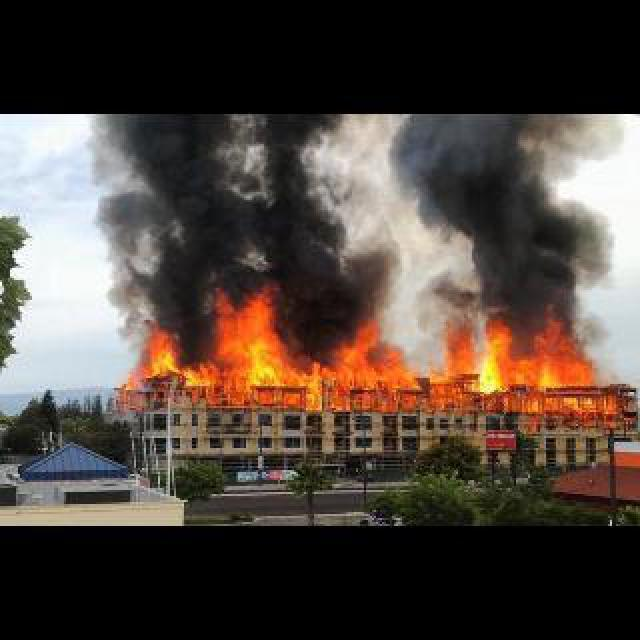Fire: (128, 308, 608, 426)
Smoke: (80, 112, 626, 306)
